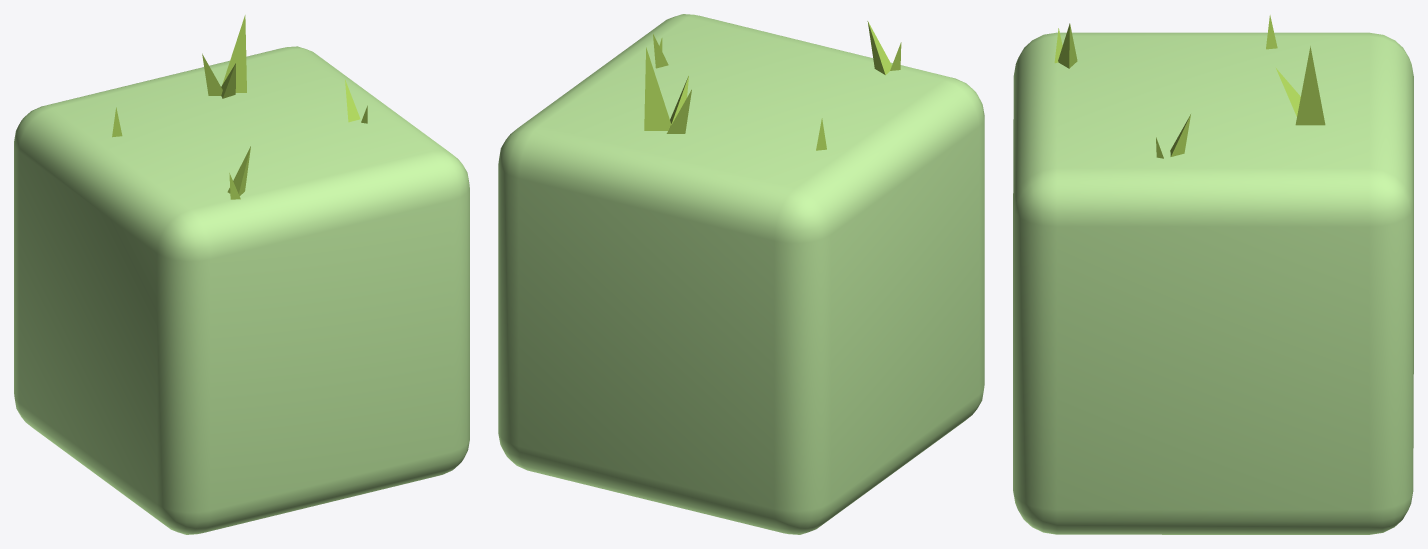
File: safe2.fbx
3 renders of one model, left to right at view 1: azimuth 30°, elevation 25°; view 2: azimuth 150°, elevation 25°; view 3: azimuth 270°, elevation 25°, orthographic. The views are drawn at different scales.
Parts seen in each view (by area): view 1: Cube.033; view 2: Cube.033; view 3: Cube.033.
Boxes of the visible parts, x1,y1,x2,y2 form: Cube.033: [14, 15, 469, 534]; Cube.033: [498, 14, 984, 534]; Cube.033: [1013, 15, 1413, 534].
Size of the model in its own units: 200 by 245 by 200.
